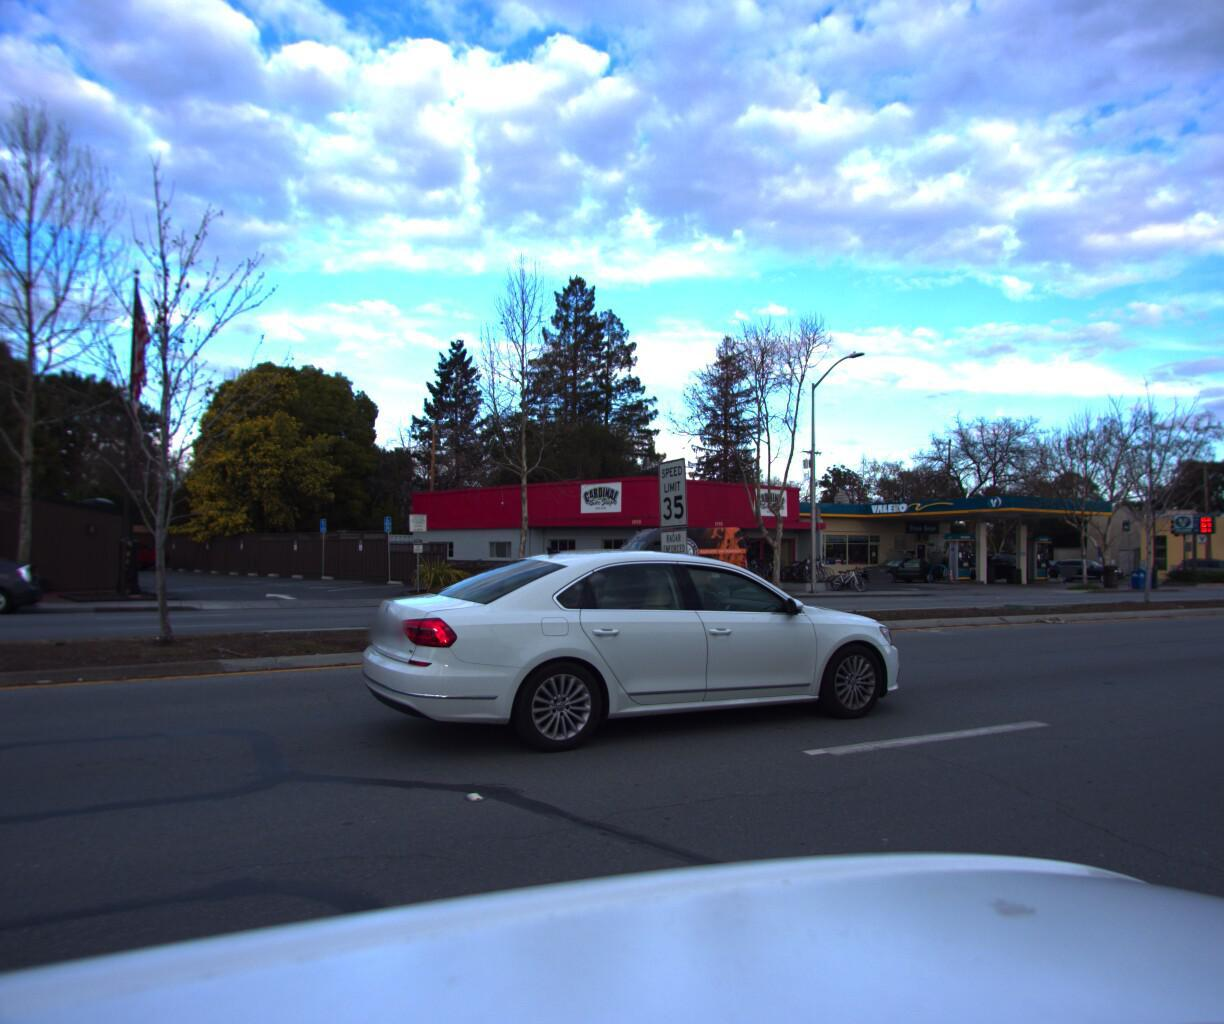bicycle: (829, 558, 871, 587), (824, 558, 864, 588), (773, 558, 812, 588), (778, 558, 817, 587), (790, 558, 829, 587)
car: (354, 543, 920, 772), (0, 548, 43, 622), (850, 550, 941, 581), (939, 547, 1022, 577), (1042, 551, 1124, 578), (1168, 550, 1224, 580)
truck: (579, 519, 750, 600)
